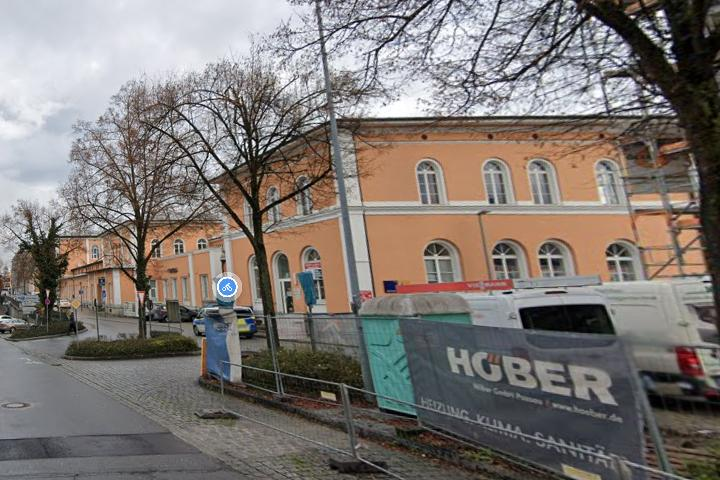google_maps: (217, 275, 238, 297)
traffic_sign: (136, 290, 147, 306), (71, 300, 80, 309), (44, 289, 51, 298)
vehicle: (1, 318, 38, 335)
